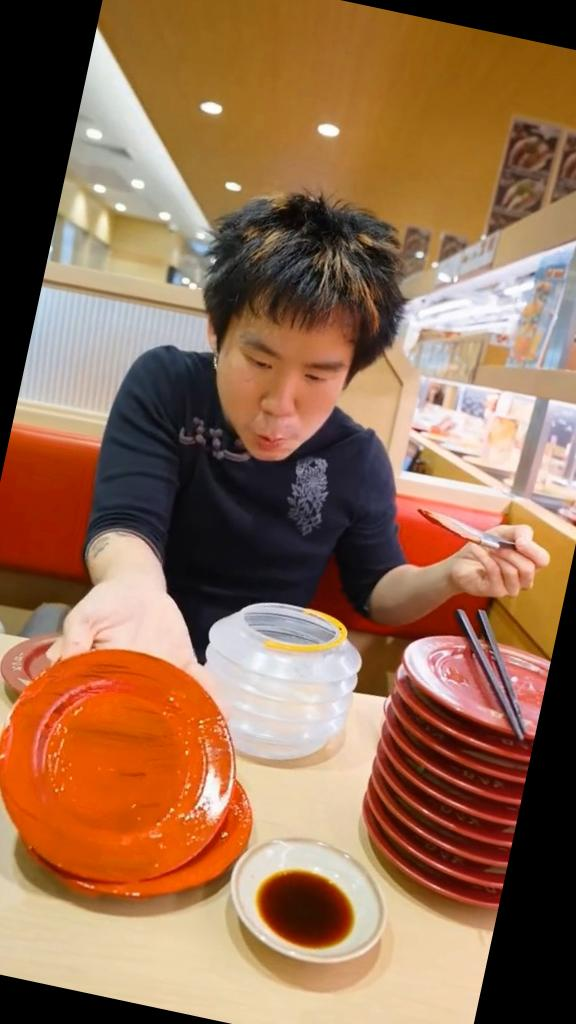Janred: (403, 620, 554, 722), (406, 716, 534, 750), (414, 834, 499, 872), (396, 875, 489, 909), (420, 796, 515, 829), (403, 857, 496, 888), (418, 814, 502, 848), (444, 778, 522, 808), (459, 756, 520, 786)
